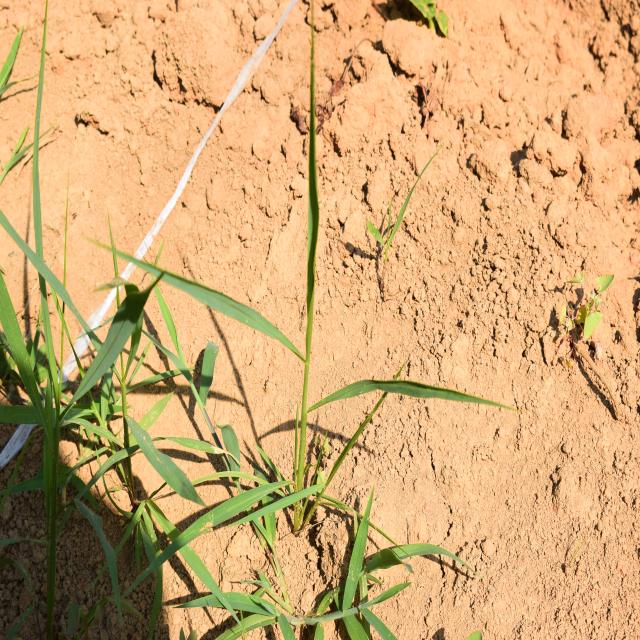green_foxtail: (178, 104, 413, 529)
